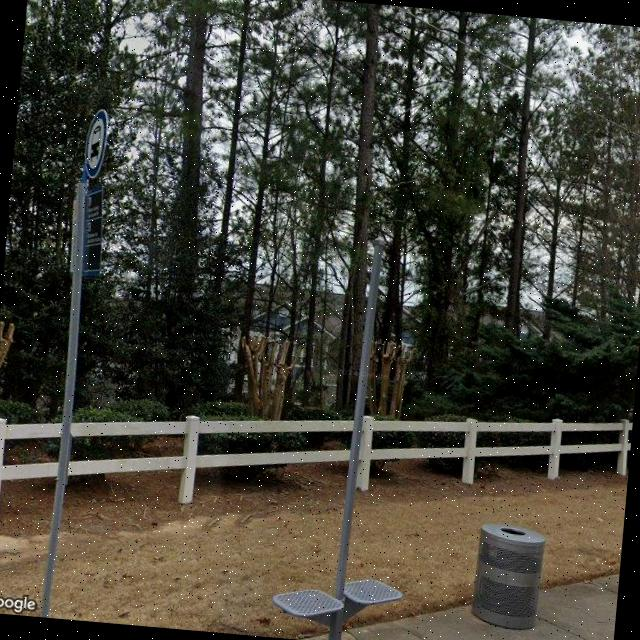seating: (268, 567, 404, 634)
trash_can: (470, 522, 548, 634)
